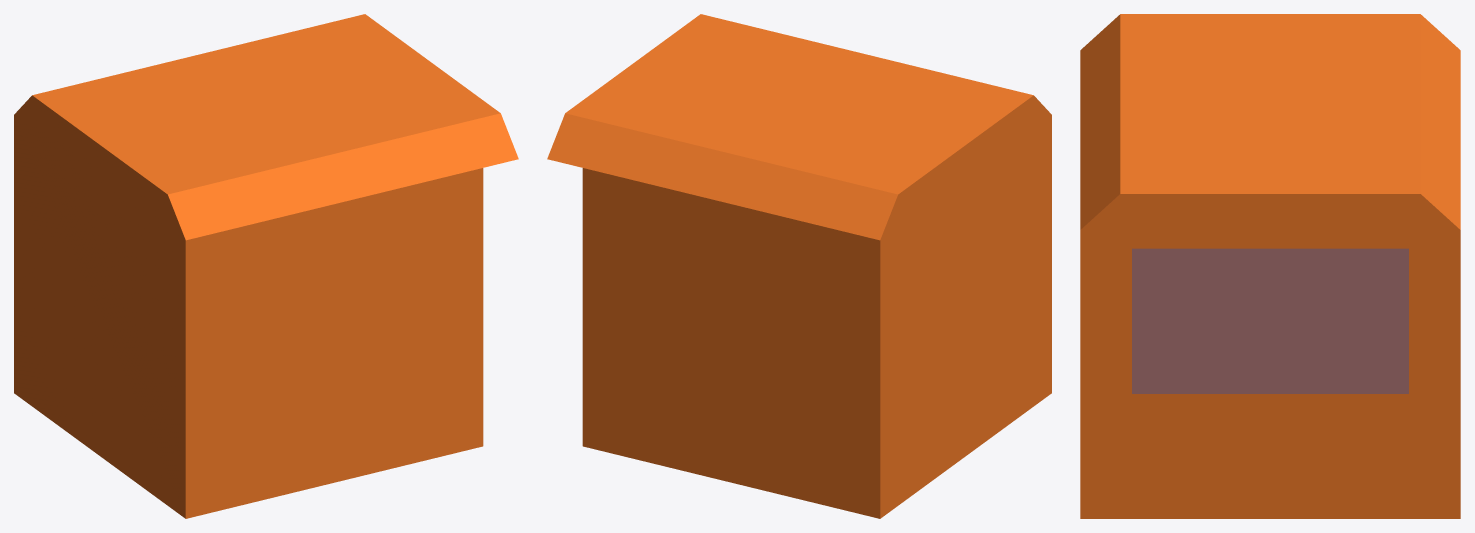
The model's file is Boxhousing_model.glb.
3 views of the same model, side by side, from view 1: azimuth 30°, elevation 25°; view 2: azimuth 150°, elevation 25°; view 3: azimuth 270°, elevation 25° (orthographic). The views are drawn at different scales.
Parts seen in each view (by area): view 1: Cube.036; view 2: Cube.036; view 3: Cube.036.
Boxes of the visible parts, left/top/right/bottom form: Cube.036: left=14, top=14, right=518, bottom=518; Cube.036: left=547, top=14, right=1051, bottom=518; Cube.036: left=1080, top=14, right=1460, bottom=518.
Bounding box in the file's own units: 4.46 × 3.98 × 3.98.
1 material, 1 textured.
